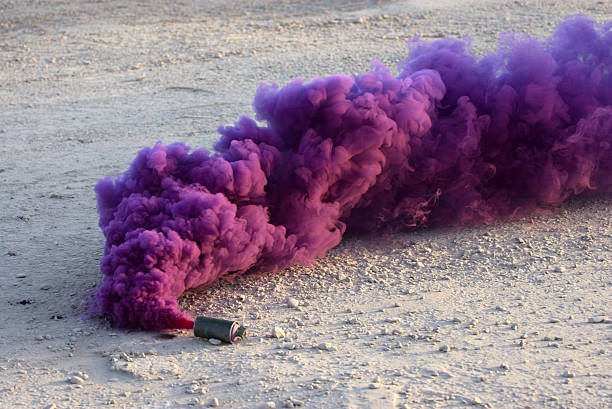e1: (192, 315, 252, 346)
